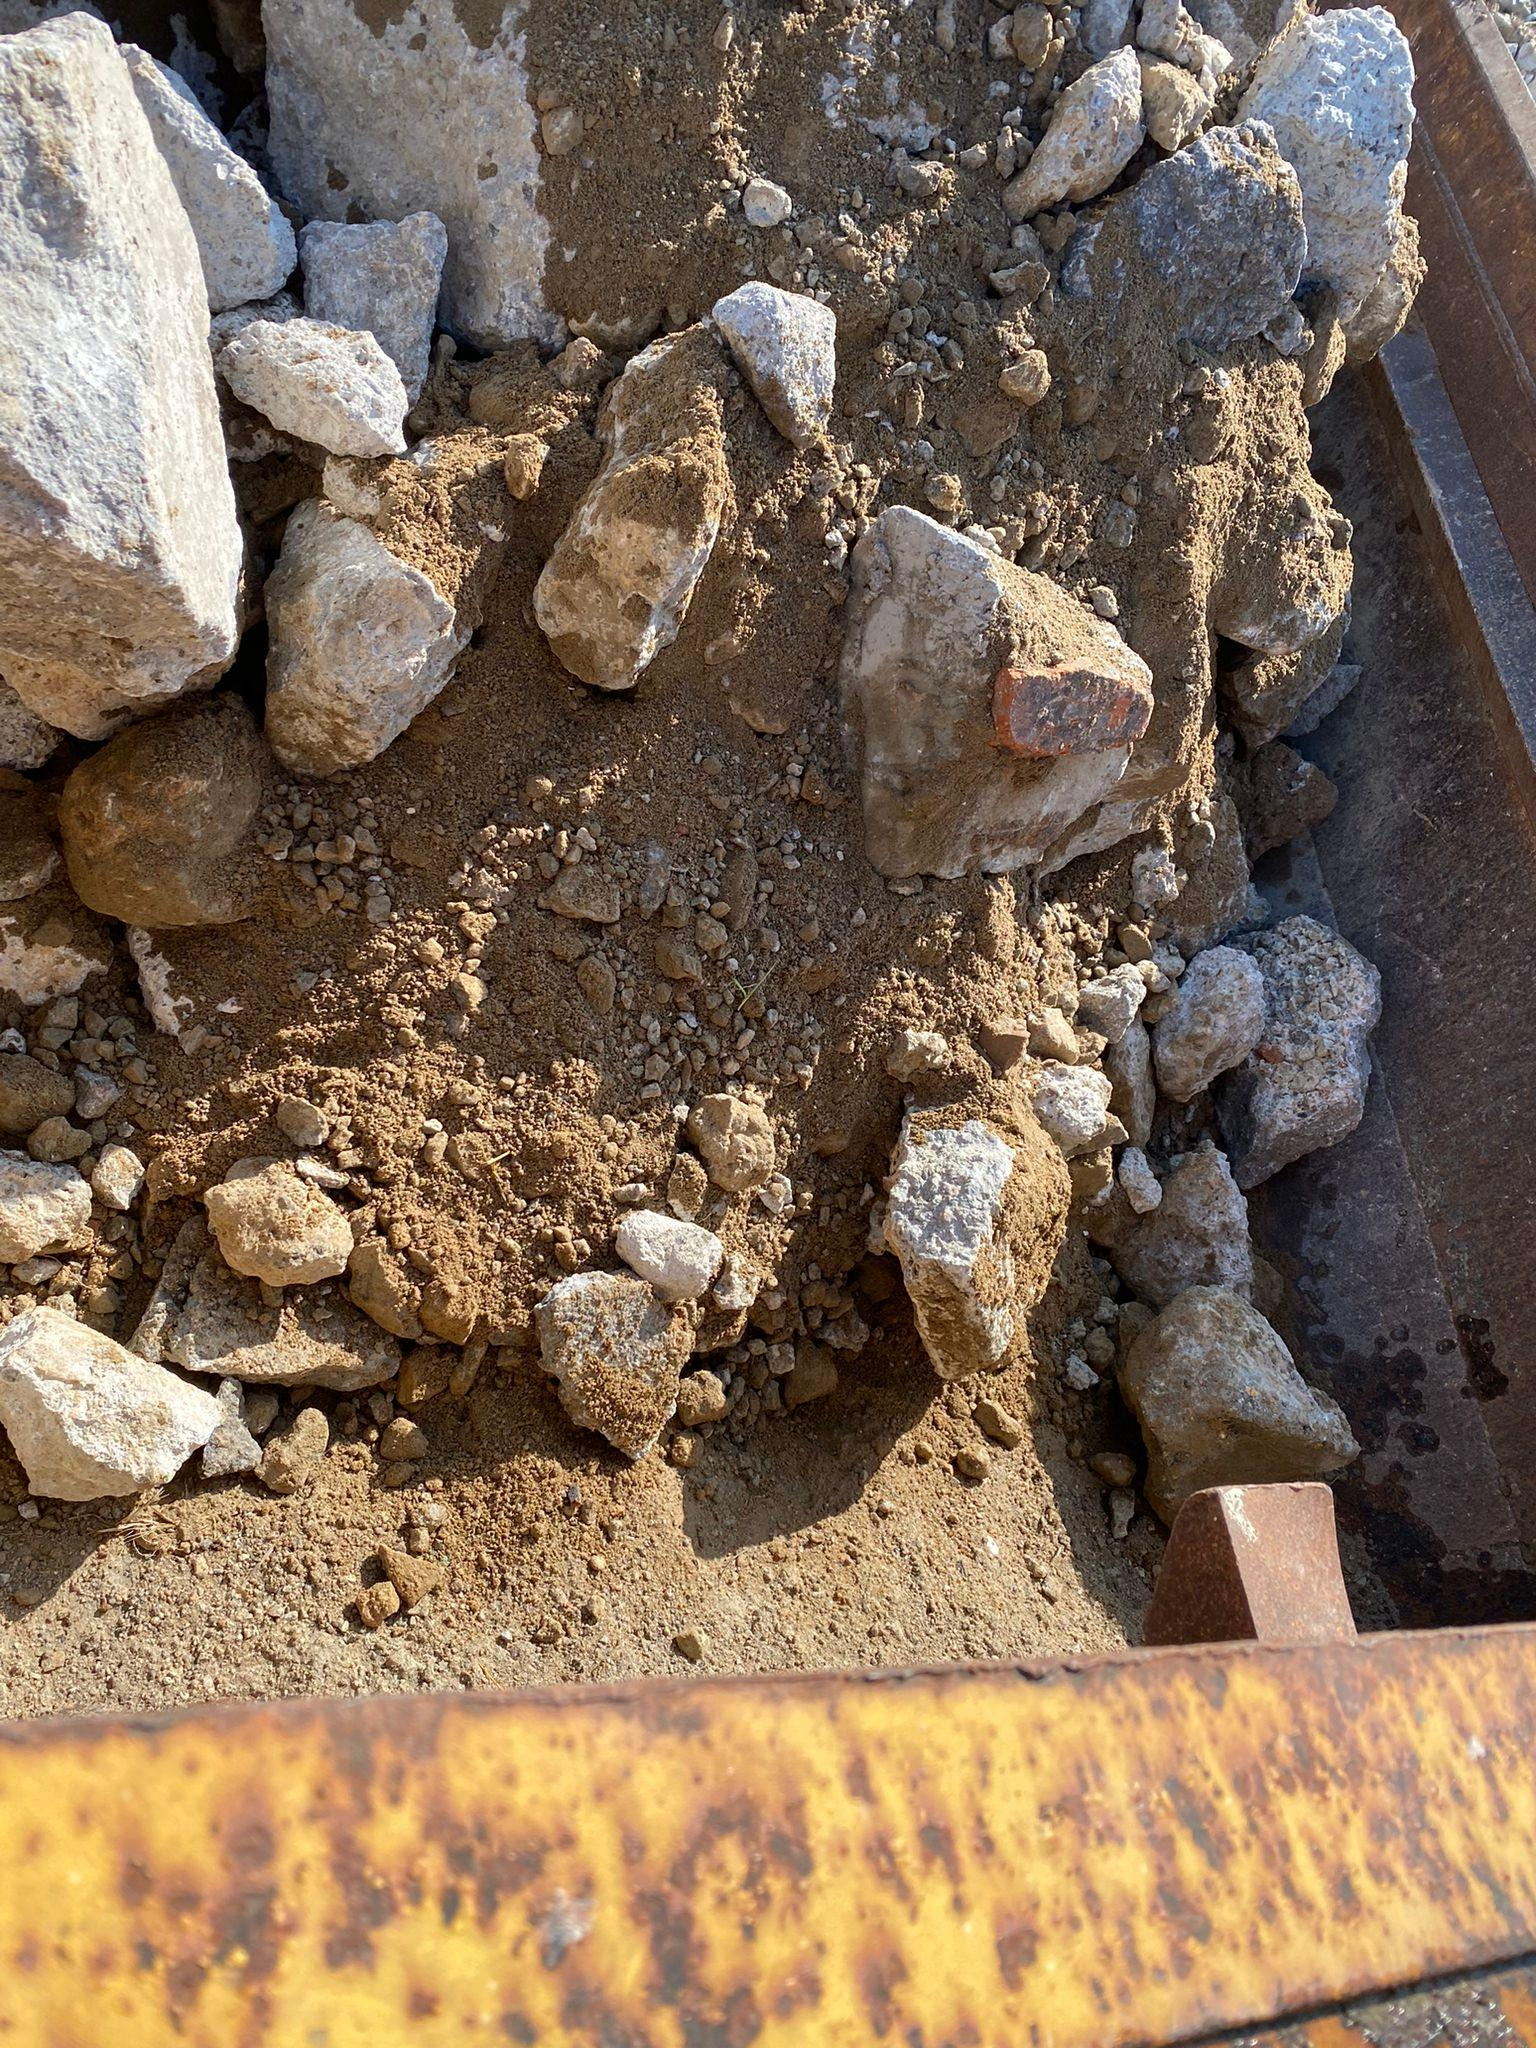stone: (2, 0, 1433, 1703), (0, 10, 248, 742), (837, 502, 1157, 884), (1113, 1280, 1362, 1529), (260, 493, 465, 777), (879, 1085, 1071, 1379), (529, 427, 736, 692), (0, 1301, 224, 1501), (532, 1268, 695, 1461), (216, 313, 410, 460), (708, 277, 837, 452), (202, 1155, 353, 1285)
